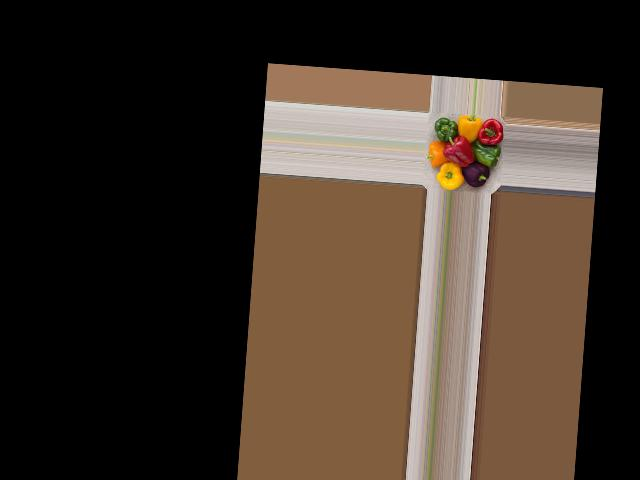bell_pepper: (460, 155, 497, 187)
